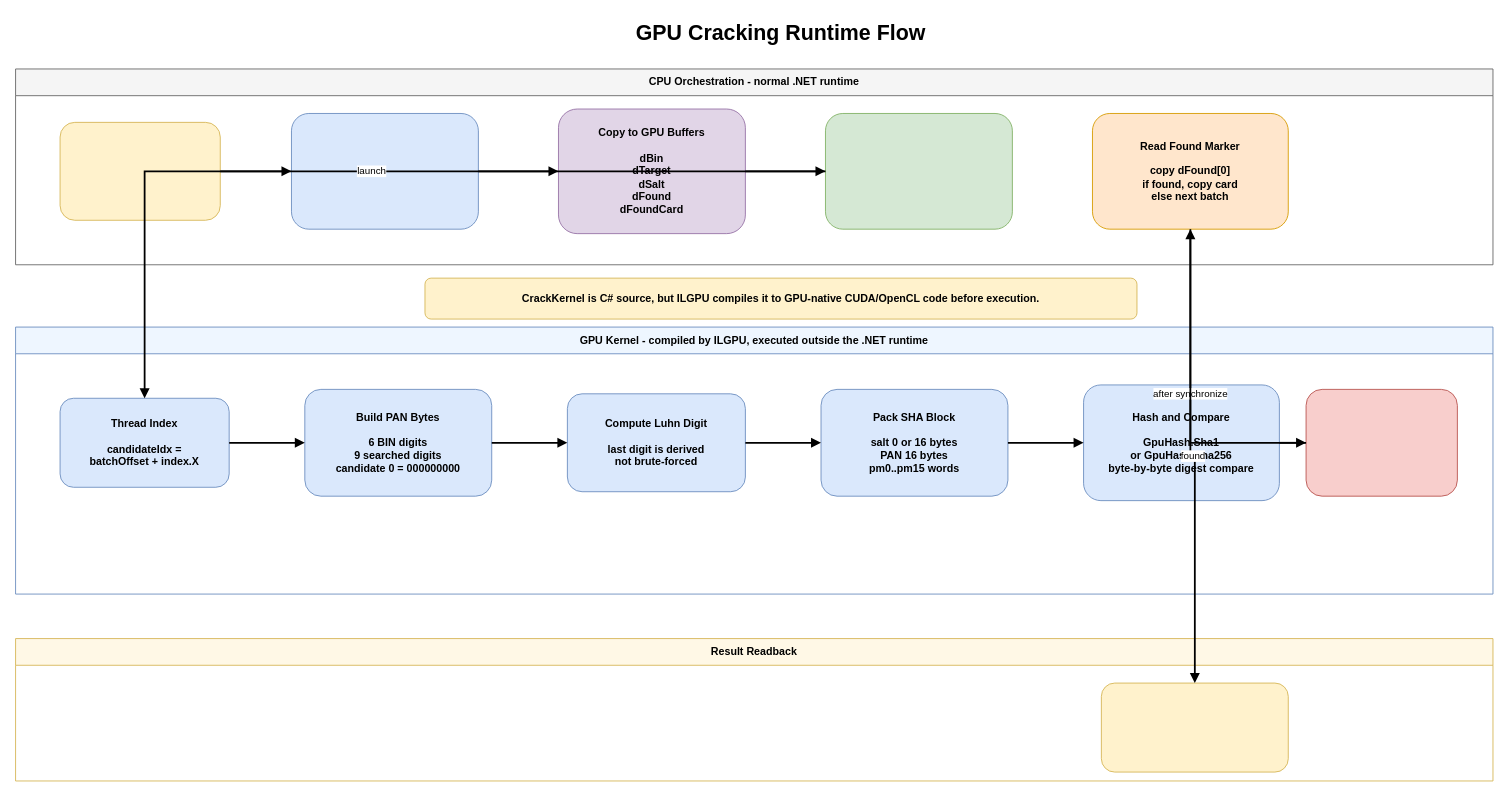
Some shapes in this 1509 by 797 pixel diagram are drawn without their labels. Each missing label, with the centre of its shape:
Batch Loop offset += 16M launch kernel synchronize: point 918,171
Create Backend Context Accelerator compile kernel probe: point 384,171
If Match Atomic.CompareExchange write foundIndex write foundCard: point 1381,442
Inputs target hash BIN salt SHA flag: point 139,170
Return Result card or null elapsed time tried count GHash/sec: point 1194,727
